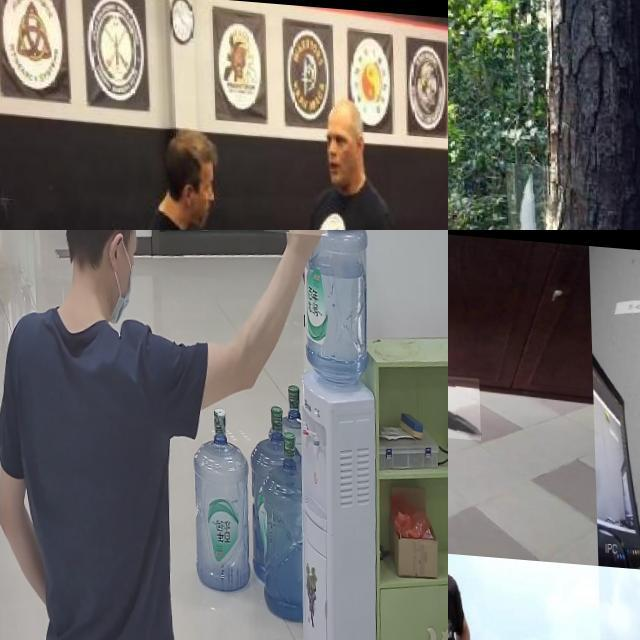-: (448, 366, 516, 437), (504, 154, 556, 230)
gun-knife-thesis - v11 Yolov5 augmented: (259, 230, 326, 309)
